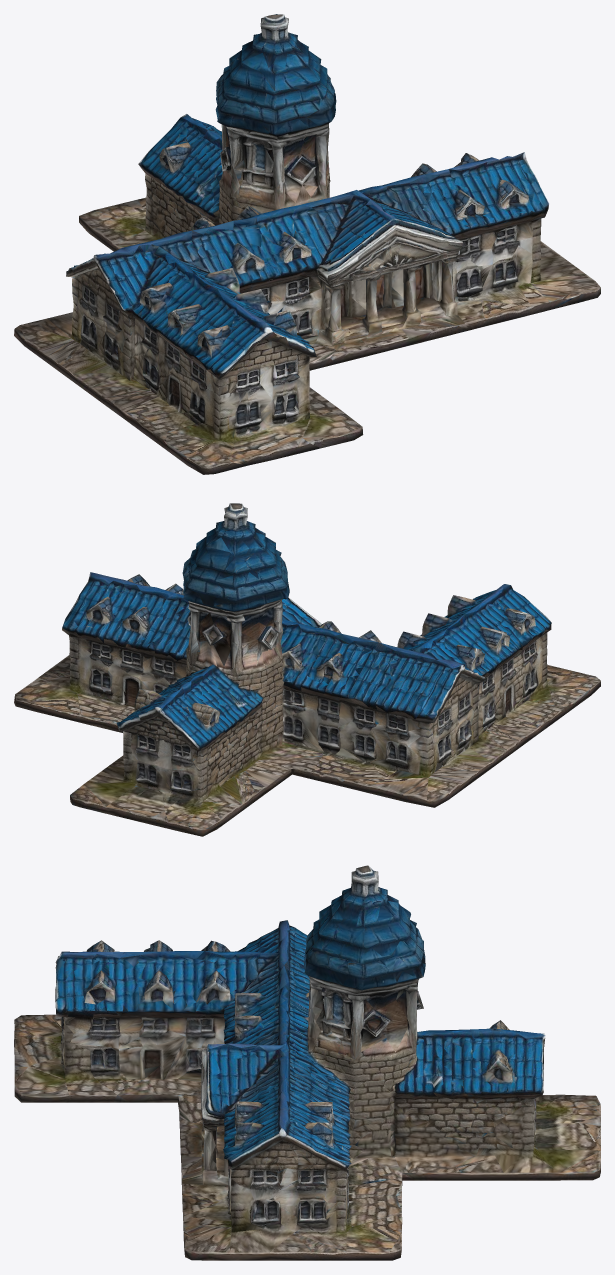
Rendered from biblioteca.glb.
3 renders of one model, top to bottom at view 1: azimuth 30°, elevation 25°; view 2: azimuth 150°, elevation 25°; view 3: azimuth 270°, elevation 25°, orthographic. The views are drawn at different scales.
Size of the model in its own units: 1.83 by 0.981 by 1.9.
1 material, 1 textured.
